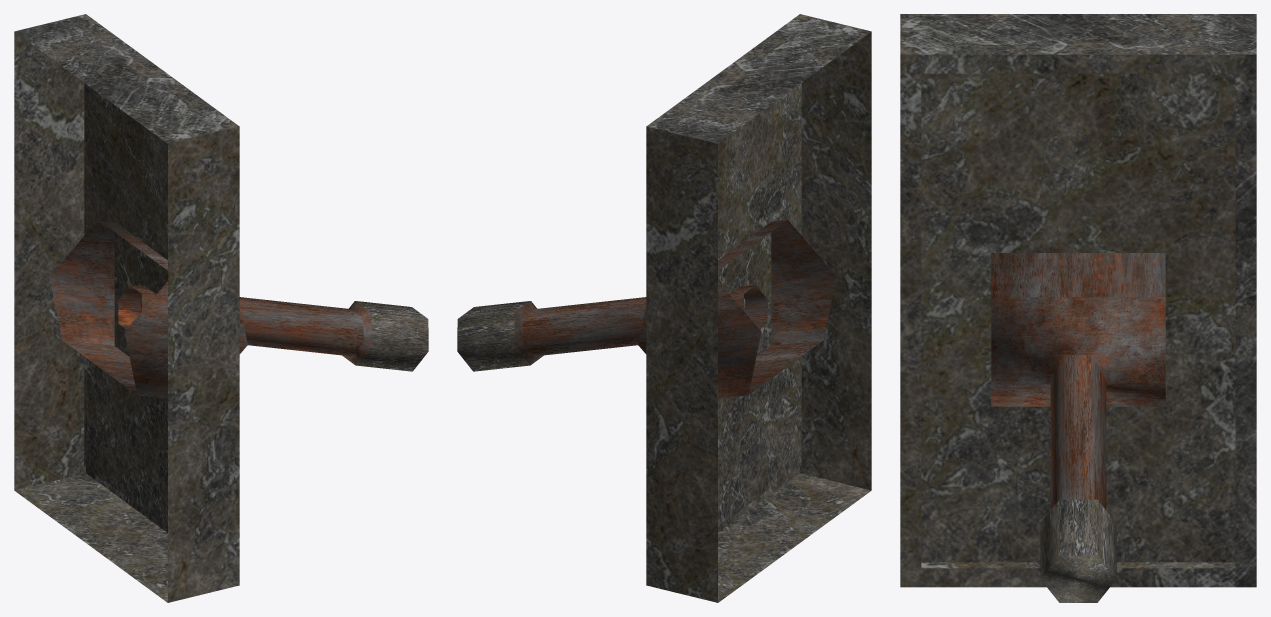
File: lever_anim18.obj
3 views of the same model, side by side, from view 1: azimuth 30°, elevation 25°; view 2: azimuth 150°, elevation 25°; view 3: azimuth 270°, elevation 25° (orthographic). The views are drawn at different scales.
Parts seen in each view (by area): view 1: Cube, Cylinder; view 2: Cube, Cylinder; view 3: Cube, Cylinder.
Boxes of the visible parts, left/top/right/bottom form: Cube: left=14, top=14, right=239, bottom=602; Cylinder: left=49, top=219, right=428, bottom=398; Cube: left=646, top=14, right=871, bottom=602; Cylinder: left=457, top=219, right=836, bottom=398; Cube: left=900, top=14, right=1256, bottom=587; Cylinder: left=991, top=253, right=1165, bottom=602.
Size of the model in its own units: 1.52 by 2 by 1.21.
2 materials, 2 textured.
